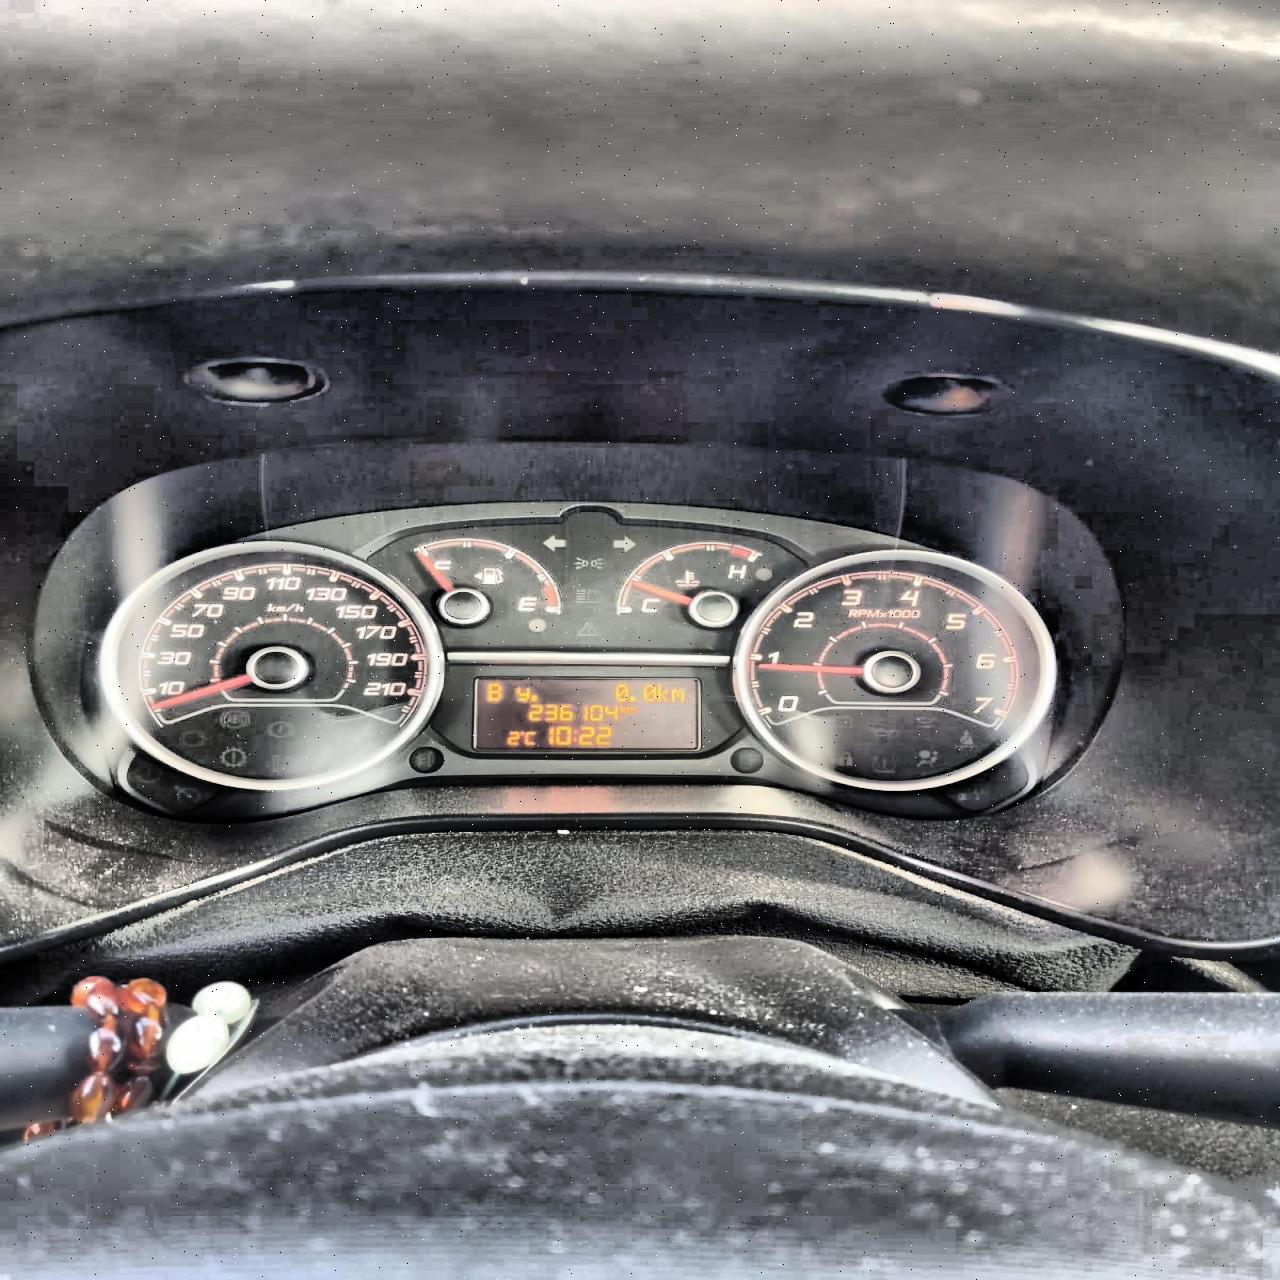-: (530, 694, 537, 701), (628, 694, 635, 701)
0: (553, 726, 572, 744), (613, 683, 628, 702), (641, 683, 656, 702), (587, 704, 602, 721)
1: (547, 727, 553, 744), (583, 704, 587, 720)
2: (577, 726, 594, 744), (594, 726, 611, 744), (527, 703, 542, 720), (505, 730, 519, 744)
3: (543, 704, 558, 721)
4: (604, 704, 619, 721)
6: (558, 704, 573, 721)
X: (485, 681, 503, 701), (656, 683, 669, 702), (669, 688, 685, 702), (515, 687, 529, 701), (524, 730, 535, 744), (625, 706, 636, 714), (571, 728, 577, 742), (619, 704, 626, 713)
odometer: (470, 674, 703, 753)
